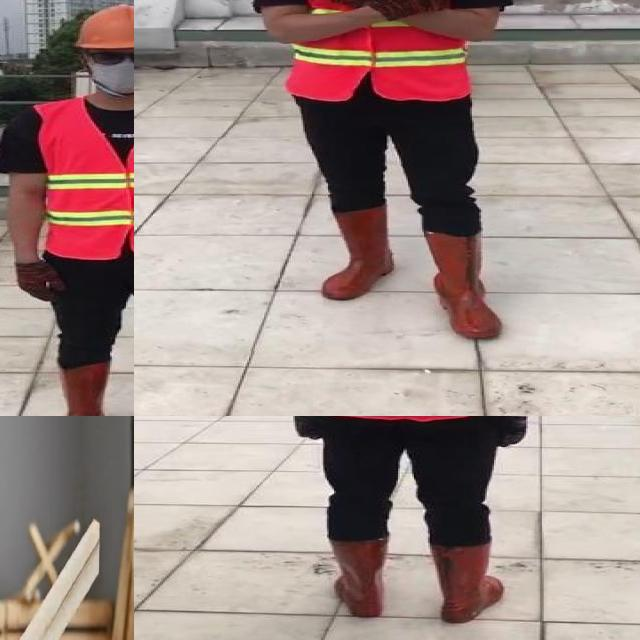boots: (424, 231, 506, 340), (320, 207, 397, 303), (428, 543, 505, 624), (327, 537, 393, 619), (44, 361, 108, 416)
face_mask: (85, 45, 134, 92)
glasses: (85, 47, 134, 69)
hand_glove: (12, 257, 66, 303), (497, 416, 529, 447), (293, 416, 323, 440)
head_helmet: (74, 1, 134, 52)
person: (240, 0, 542, 351), (255, 416, 552, 632), (0, 0, 134, 416)
vest: (277, 0, 471, 101), (35, 98, 134, 259)
